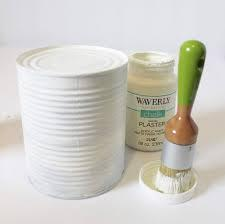Tin: (11, 37, 130, 201)
